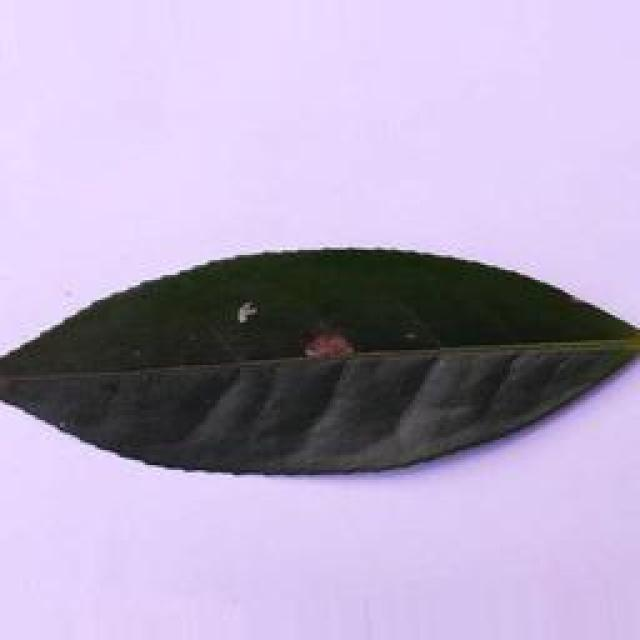Gray Blight: (0, 243, 640, 474)
